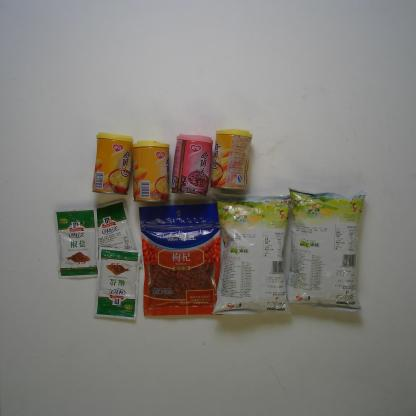Canned Food: (170, 133, 215, 198), (209, 128, 254, 193), (91, 132, 134, 195), (131, 140, 171, 204)
Dried Fruit: (138, 202, 225, 316)
Puffed Food: (284, 186, 368, 314), (212, 192, 293, 316)
Seasoner: (93, 245, 143, 321), (53, 204, 100, 280), (95, 198, 144, 268)
